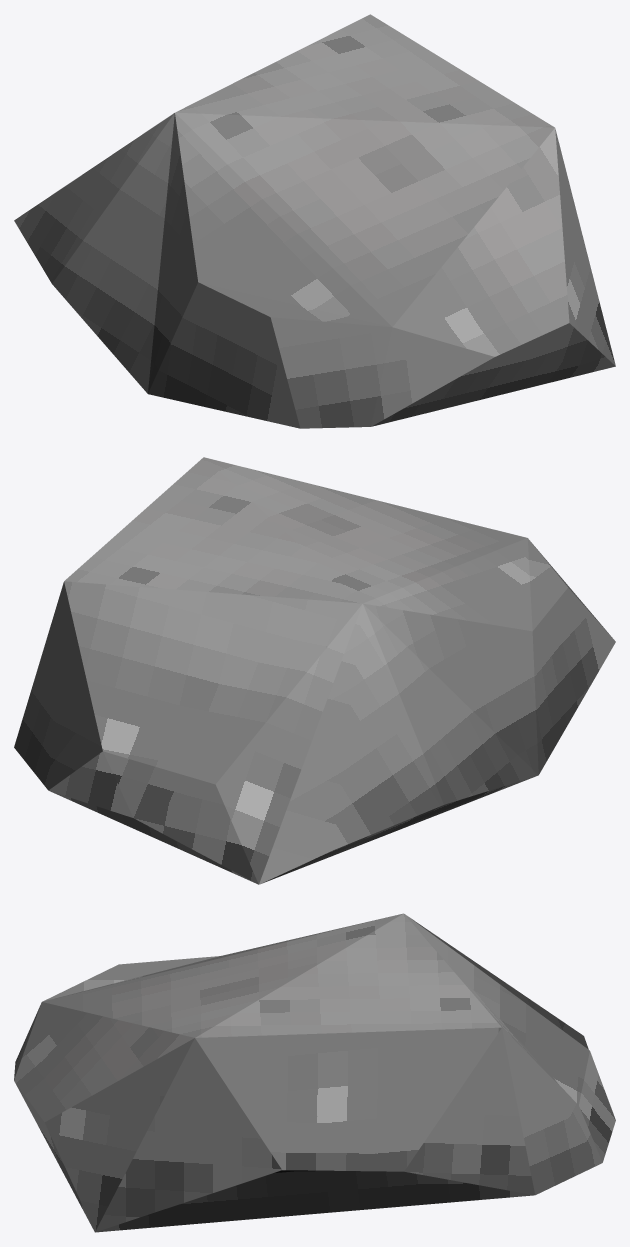
The model's file is Rock_2.fbx.
3 renders of one model, top to bottom at view 1: azimuth 30°, elevation 25°; view 2: azimuth 150°, elevation 25°; view 3: azimuth 270°, elevation 25°, orthographic. The views are drawn at different scales.
Parts seen in each view (by area): view 1: Rock_2; view 2: Rock_2; view 3: Rock_2.
Boxes of the visible parts, x1=… form: Rock_2: x1=14, y1=14, x2=615, y2=428; Rock_2: x1=14, y1=457, x2=615, y2=884; Rock_2: x1=14, y1=913, x2=615, y2=1232.
Size of the model in its own units: 93.75 by 43.75 by 125.
Materials: 1 (1 with a texture image).
